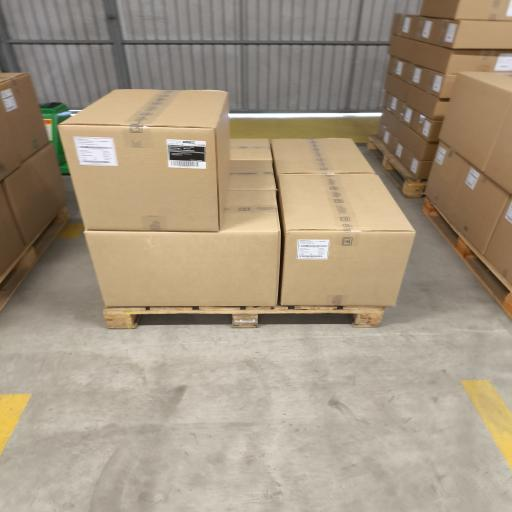pallet: (423, 199, 511, 319), (0, 207, 68, 310), (104, 306, 384, 328), (367, 136, 426, 198)
